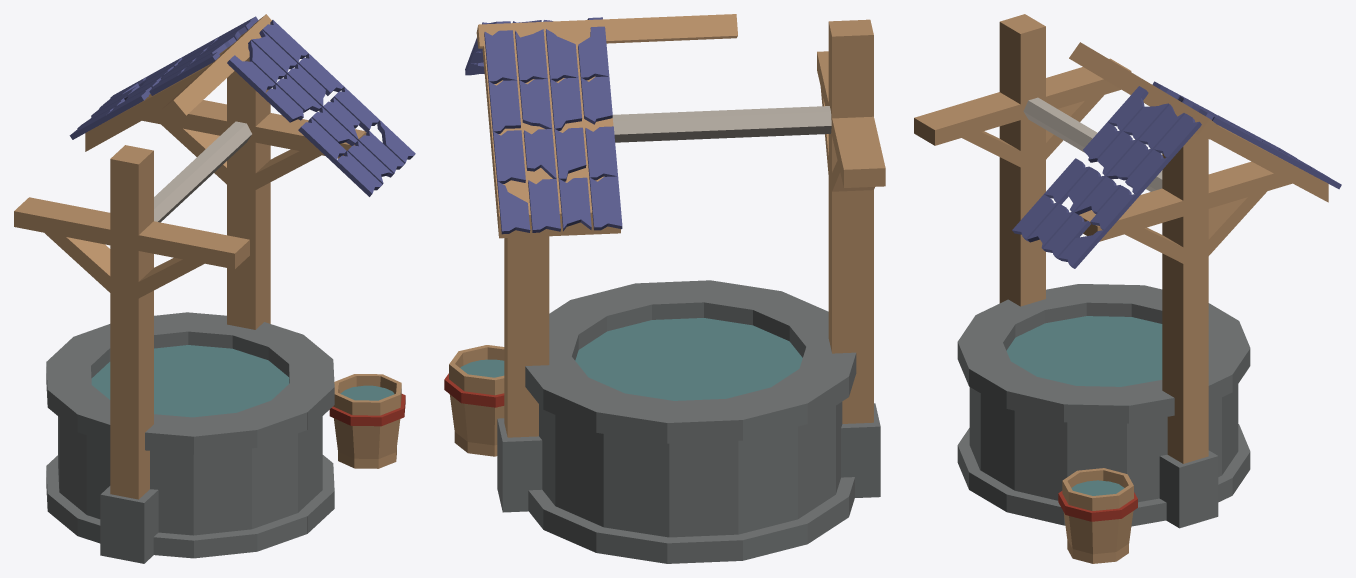
The model's file is Sumur .fbx.
The picture shows the model from 3 angles, left to right: view 1: azimuth 30°, elevation 25°; view 2: azimuth 150°, elevation 25°; view 3: azimuth 270°, elevation 25°; orthographic projection. The views are drawn at different scales.
Parts seen in each view (by area): view 1: Sumur; view 2: Sumur; view 3: Sumur.
Part boxes in pixels (x1,y1,x2,y2): Sumur: [14, 14, 415, 563]; Sumur: [444, 14, 885, 563]; Sumur: [914, 14, 1341, 563].
Size of the model in its own units: 2.33 by 2.39 by 2.26.
